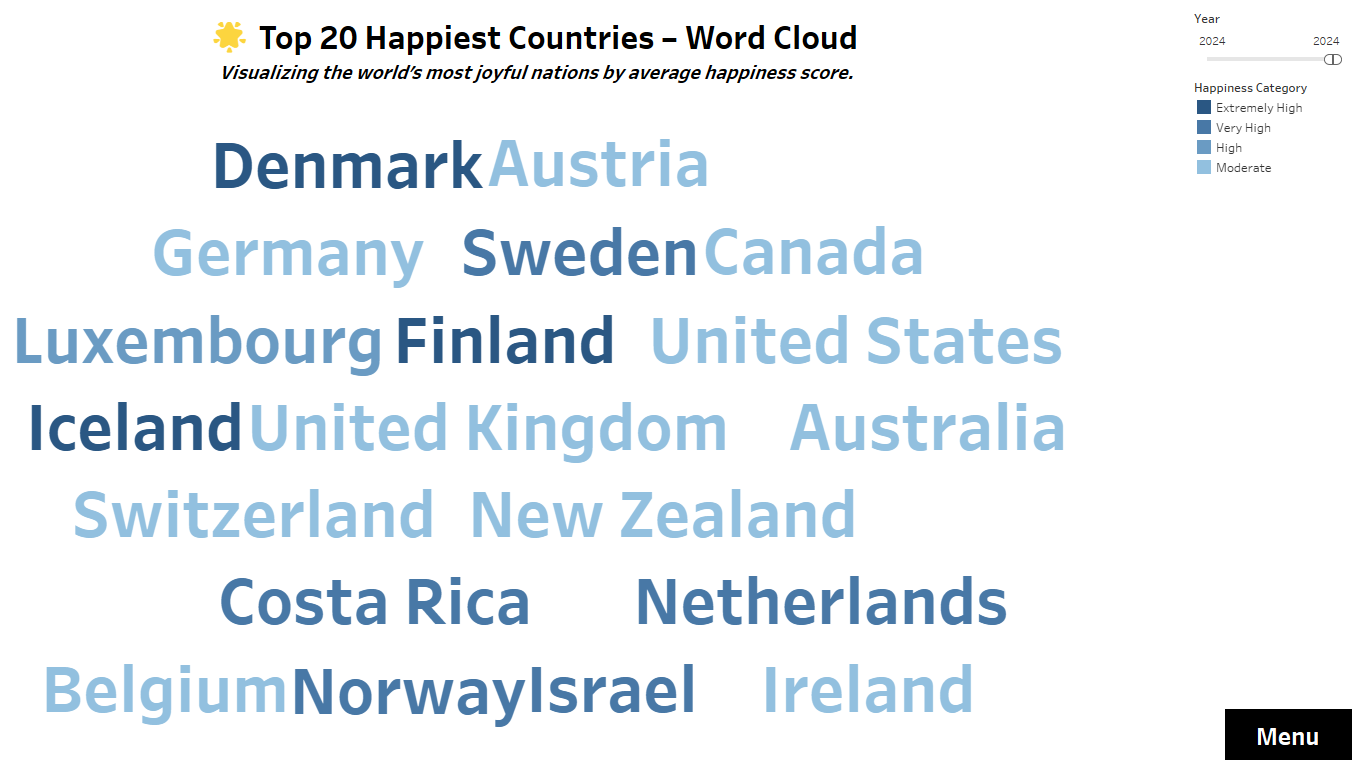

This screenshot's page, from the dashboard's own definition file:
{"tool":"tableau","page":{"name":"Top20","canvas":[1366,768],"ordinal":11},"visuals":[{"type":"worksheet","title":"World Cloud","mark":"Text","box":[8,8,1190,752]},{"type":"filter","title":"World Cloud","param":"[federated.1s60qn90mvq7pd1bg91gn1nk7sn9].[none:Year:qk]","box":[1198,8,160,69]},{"type":"legend","title":"World Cloud","param":"[federated.1s60qn90mvq7pd1bg91gn1nk7sn9].[none:Calculation_228276273508696064:nk","box":[1198,77,160,106]},{"type":"dashboard-object","box":[1233,711,127,52]}]}

Visuals, with their boxes in screenshot pixels (x1, y1, x2, y2), scaled from the page's 1366x768 canvas onto the 1354x760 screenshot:
"World Cloud" worksheet (Text marks): <region>8, 8, 1187, 752</region>
"World Cloud" filter: <region>1187, 8, 1346, 76</region>
"World Cloud" legend: <region>1187, 76, 1346, 181</region>
dashboard-object: <region>1222, 704, 1348, 755</region>
